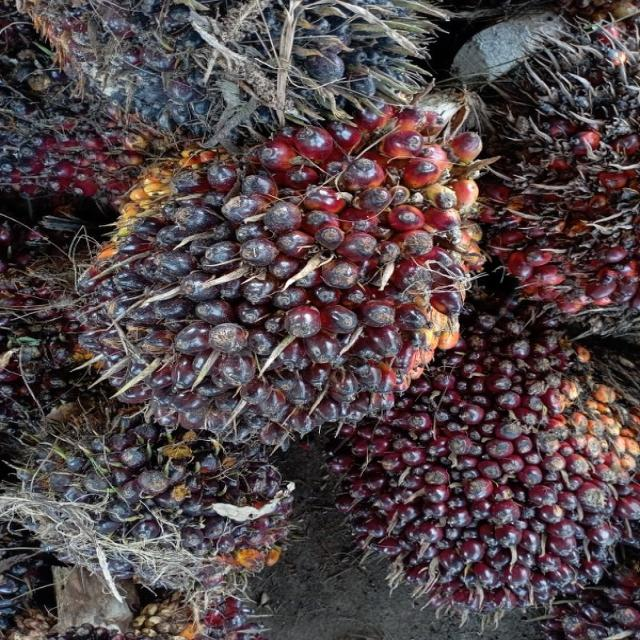fraksi 00: (24, 418, 282, 598)
fraksi 1: (87, 96, 474, 437), (326, 338, 639, 610)
